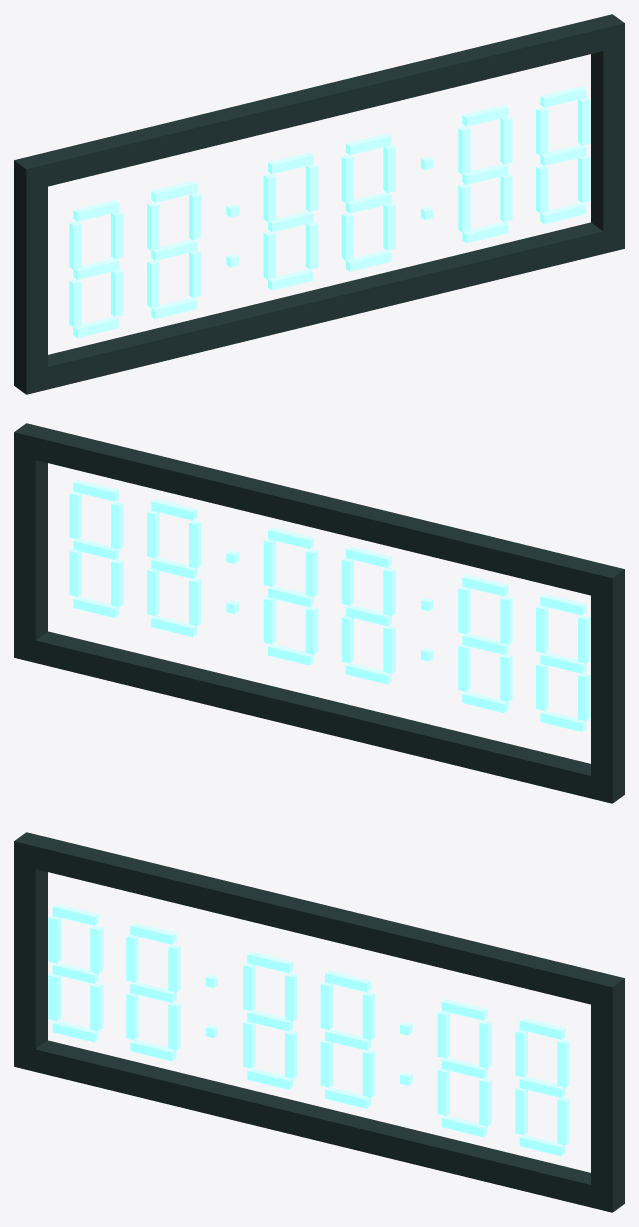
The model's file is digital-flat-v1-model.glb.
3 views of the same model, one above another, from view 1: azimuth 30°, elevation 25°; view 2: azimuth 150°, elevation 25°; view 3: azimuth 330°, elevation 25° (orthographic).
Visible parts, largest first — view 1: digital-frame-top, digital-frame-bottom, digital-frame-left, digital-frame-right, clock-digit-3-f, clock-digit-3-e, clock-digit-3-b, clock-digit-3-c, clock-digit-2-a, clock-digit-1-a, clock-digit-1-f, clock-digit-2-f (+34 smaller); view 2: digital-frame-top, digital-frame-bottom, digital-frame-left, digital-frame-right, clock-digit-4-e, clock-digit-4-f, clock-digit-4-b, clock-digit-4-c, clock-digit-5-a, clock-digit-6-f, clock-digit-1-a, clock-digit-1-f (+34 smaller); view 3: digital-frame-top, digital-frame-bottom, digital-frame-right, digital-frame-left, clock-digit-4-b, clock-digit-4-c, clock-digit-4-f, clock-digit-4-e, clock-digit-5-a, clock-digit-1-a, clock-digit-2-a, clock-digit-2-b (+34 smaller).
Part boxes in pixels (<box>): digital-frame-top: <box>14,14,624,191</box>; digital-frame-bottom: <box>14,222,624,394</box>; digital-frame-left: <box>14,183,47,372</box>; digital-frame-right: <box>591,46,624,231</box>; clock-digit-3-f: <box>263,173,276,222</box>; clock-digit-3-e: <box>263,231,276,279</box>; clock-digit-3-b: <box>305,163,318,211</box>; clock-digit-3-c: <box>305,221,318,269</box>; clock-digit-2-a: <box>151,181,197,202</box>; clock-digit-1-a: <box>73,200,119,221</box>; clock-digit-1-f: <box>69,221,81,269</box>; clock-digit-2-f: <box>147,202,159,250</box>; digital-frame-top: <box>14,423,624,600</box>; digital-frame-bottom: <box>14,631,624,803</box>; digital-frame-left: <box>591,592,624,781</box>; digital-frame-right: <box>14,455,47,640</box>; clock-digit-4-e: <box>305,606,318,654</box>; clock-digit-4-f: <box>305,548,318,596</box>; clock-digit-4-b: <box>263,538,276,586</box>; clock-digit-4-c: <box>263,596,276,644</box>; clock-digit-5-a: <box>151,498,197,520</box>; clock-digit-6-f: <box>111,501,123,549</box>; clock-digit-1-a: <box>540,593,586,615</box>; clock-digit-1-f: <box>578,615,590,663</box>; digital-frame-top: <box>14,832,624,1009</box>; digital-frame-bottom: <box>14,1040,624,1212</box>; digital-frame-right: <box>591,1001,624,1190</box>; digital-frame-left: <box>14,864,47,1049</box>; clock-digit-4-b: <box>362,991,375,1040</box>; clock-digit-4-c: <box>362,1049,375,1097</box>; clock-digit-4-f: <box>320,981,333,1029</box>; clock-digit-4-e: <box>320,1039,333,1087</box>; clock-digit-5-a: <box>441,999,487,1020</box>; clock-digit-1-a: <box>52,904,98,925</box>; clock-digit-2-a: <box>130,923,176,944</box>; clock-digit-2-b: <box>168,944,180,992</box>.
Size of the model in its own units: 0.5 by 0.18 by 0.027.
